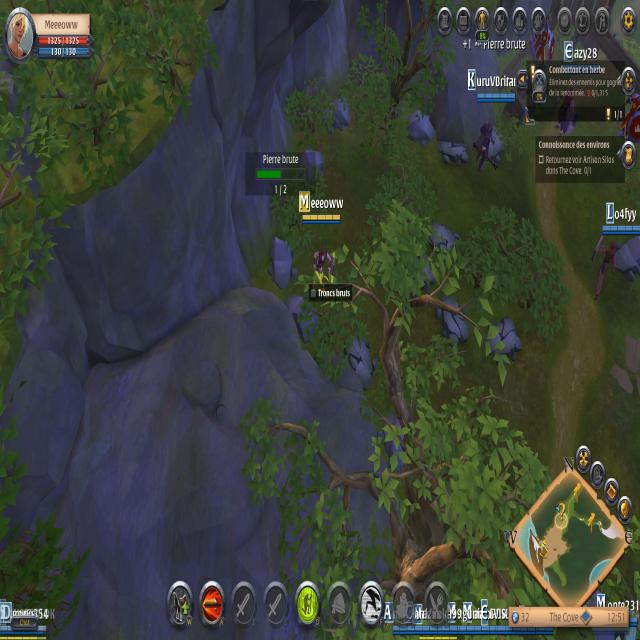broken stone: (343, 328, 378, 389), (488, 312, 522, 366), (438, 290, 468, 350), (426, 214, 462, 262), (438, 128, 471, 171)
stone: (264, 229, 300, 291), (287, 294, 318, 346), (382, 415, 406, 467), (406, 103, 434, 146), (616, 232, 640, 280), (301, 146, 326, 190), (328, 87, 351, 132)
